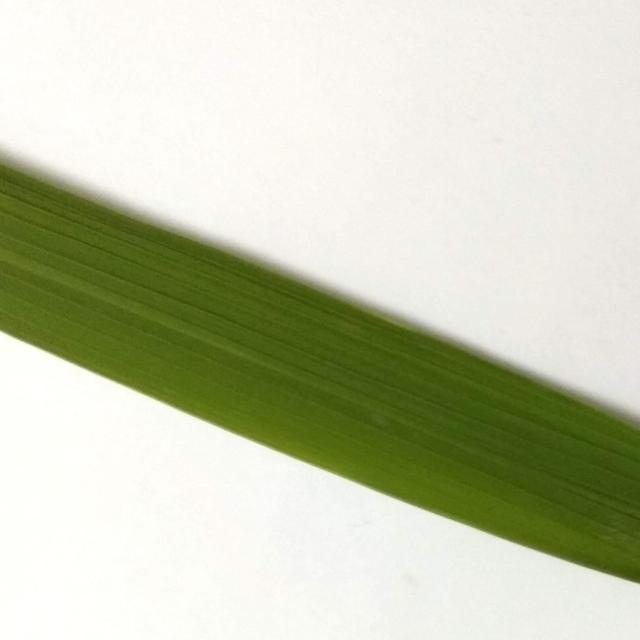healthy: (0, 129, 640, 604)
